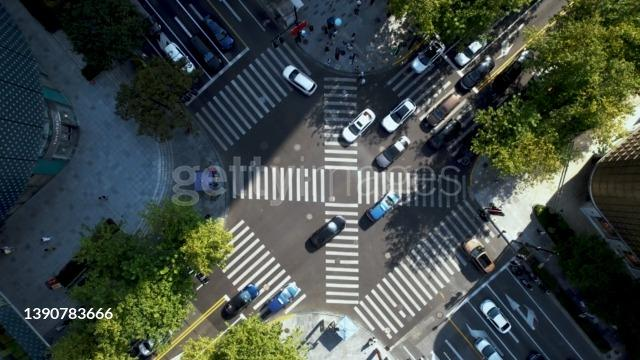car: (126, 0, 170, 40), (200, 14, 246, 52), (460, 234, 498, 278), (338, 104, 378, 144), (306, 211, 346, 251), (163, 39, 205, 77), (188, 34, 226, 74), (478, 298, 514, 340), (412, 38, 448, 78), (372, 132, 410, 168), (364, 190, 400, 228), (380, 97, 416, 133), (220, 281, 258, 315), (282, 63, 318, 97), (428, 124, 464, 158), (430, 87, 462, 125), (132, 326, 178, 352), (265, 282, 299, 313), (460, 58, 492, 90), (452, 39, 486, 63), (524, 346, 548, 360)
